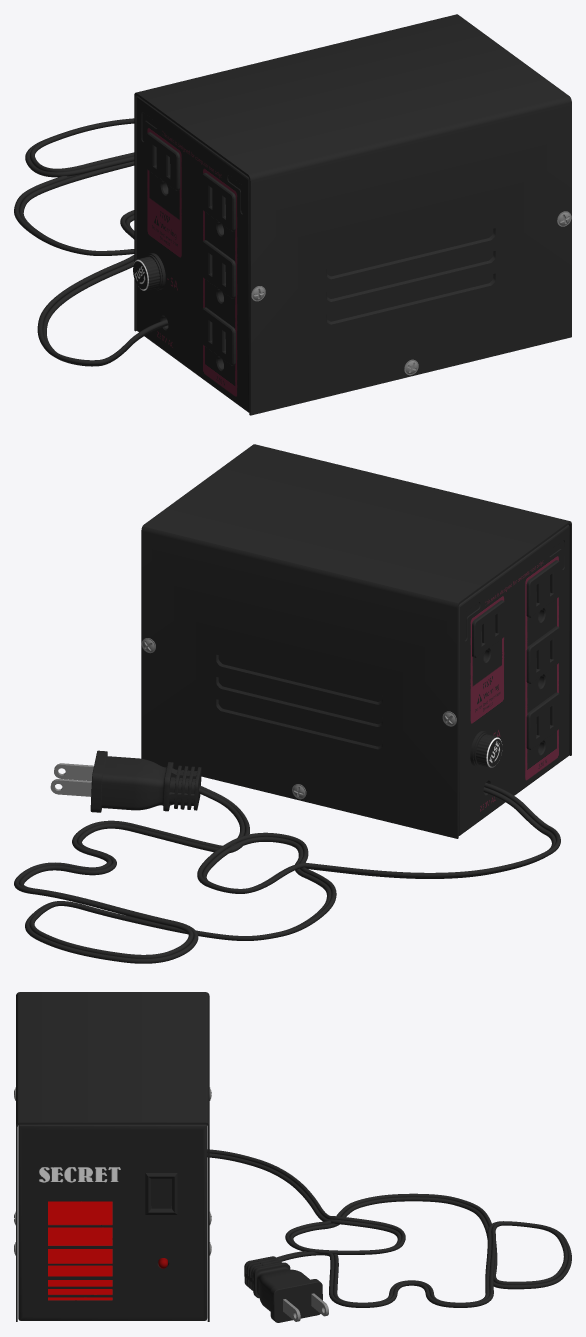
Rendered from avr.glb.
3 views of the same model, one above another, from view 1: azimuth 30°, elevation 25°; view 2: azimuth 150°, elevation 25°; view 3: azimuth 270°, elevation 25° (orthographic). The views are drawn at different scales.
Parts seen in each view (by area): view 1: avr; view 2: avr; view 3: avr.
Boxes of the visible parts, x1,y1,x2,y2 form: avr: (14, 14, 571, 415); avr: (14, 444, 571, 963); avr: (14, 992, 571, 1322).
Size of the model in its own units: 0.2092 by 0.1069 by 0.2709.
3 materials, 1 textured.
